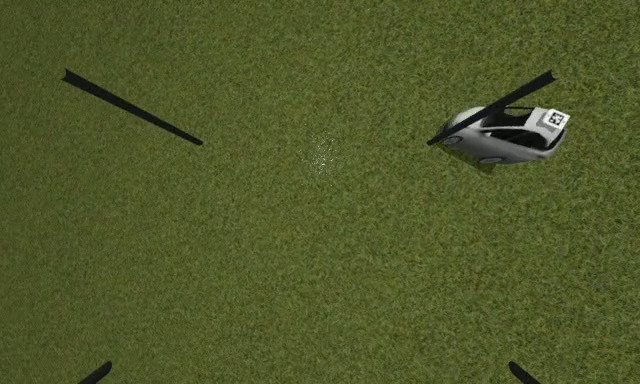Car: (441, 105, 572, 168)
Landing Pad: (543, 108, 571, 128)
